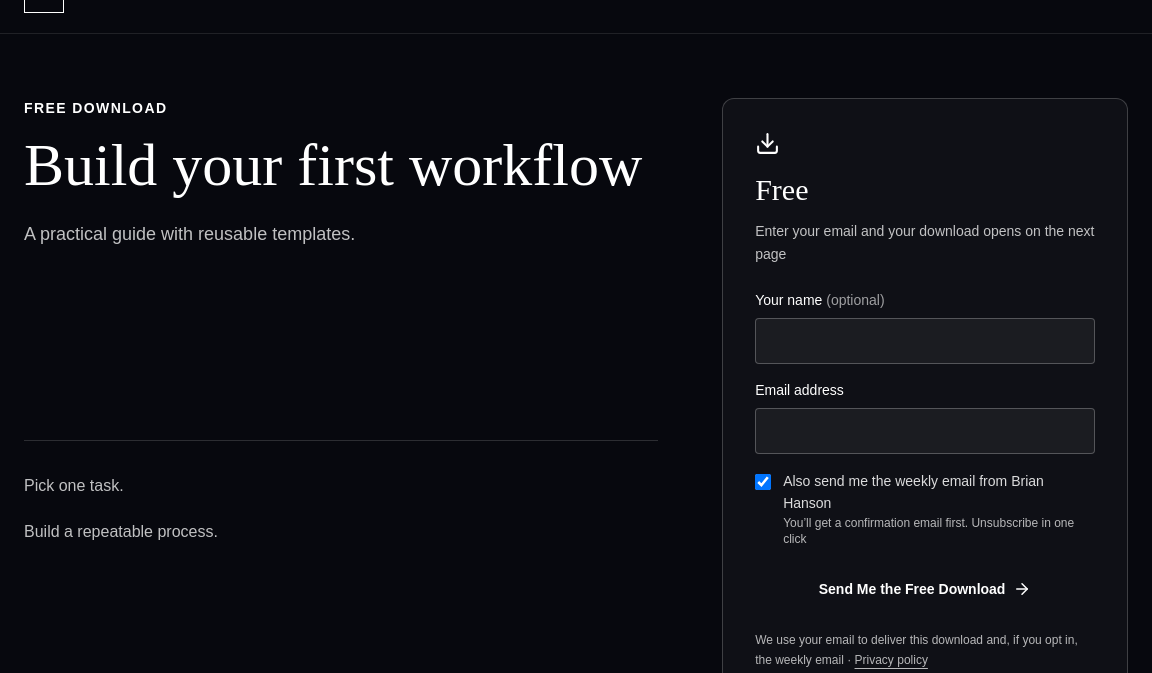
Test: offer visitor journey › free download retries reuse the same token, then start the opted-in newsletter confirmation
Later steps or results of the test are not shown.
In the field labelled "Email address": [925, 430] box [755,408,1095,454], type "PERSON@example.com"
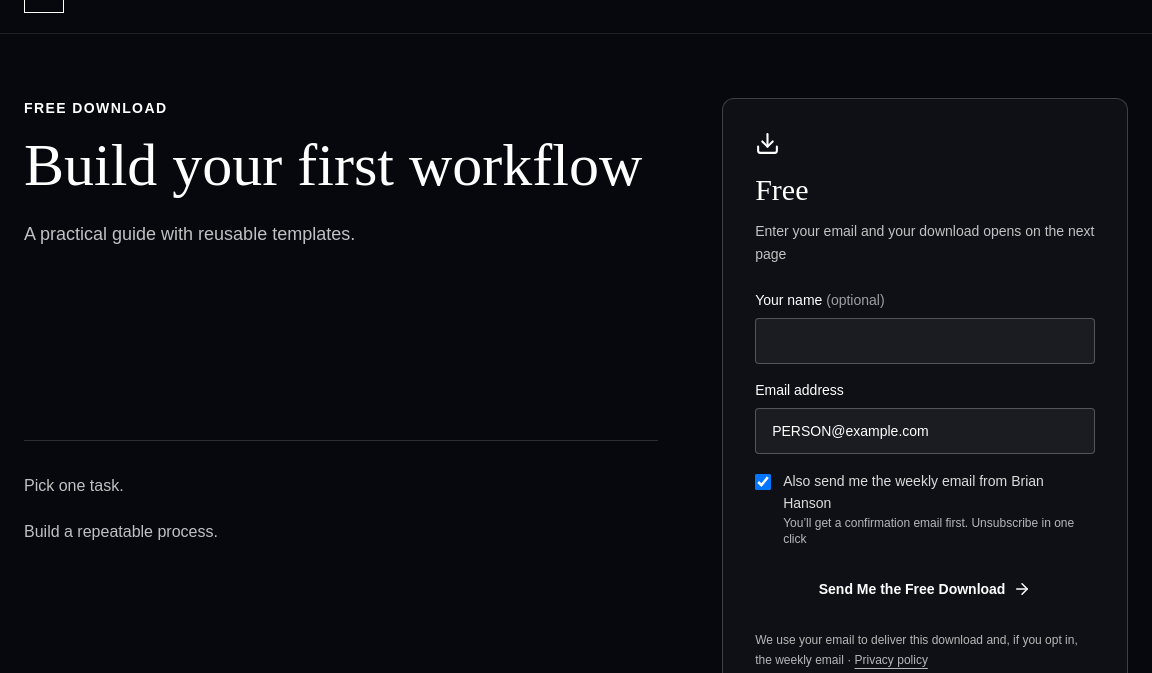
Submit the form named "Send Me the Free Download", box [755,290,1095,670]
(page scrolled)
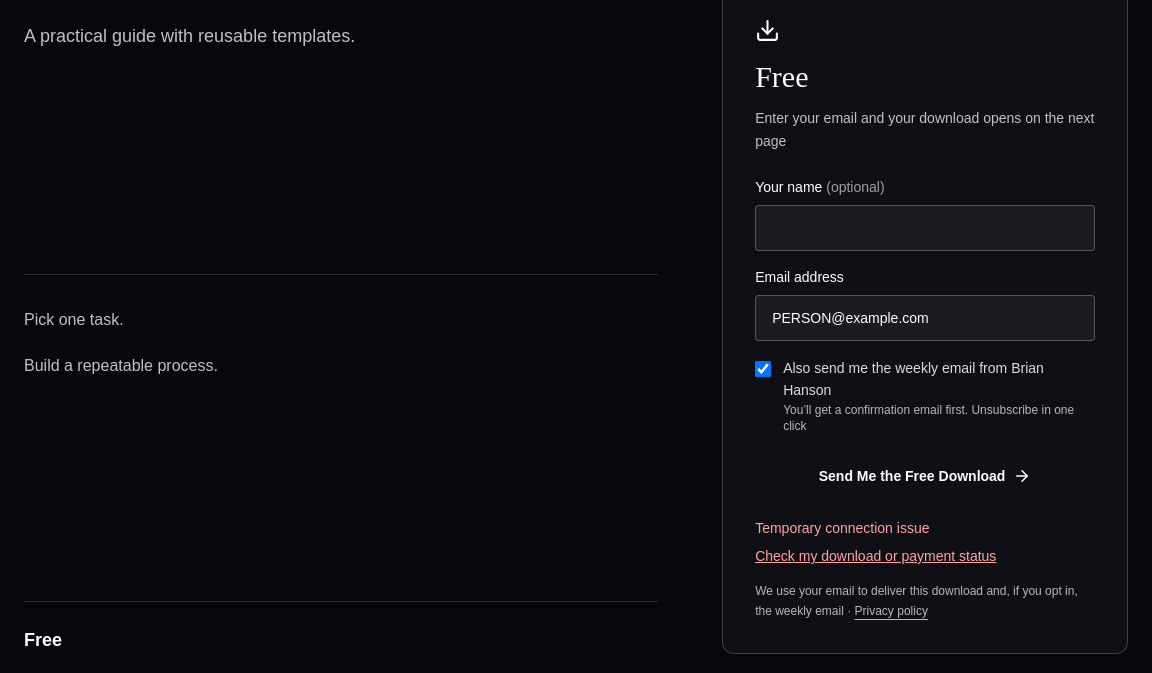
Expected: the message "Temporary connection issue Check my download or payment status" is shown, [755,520,996,564]
